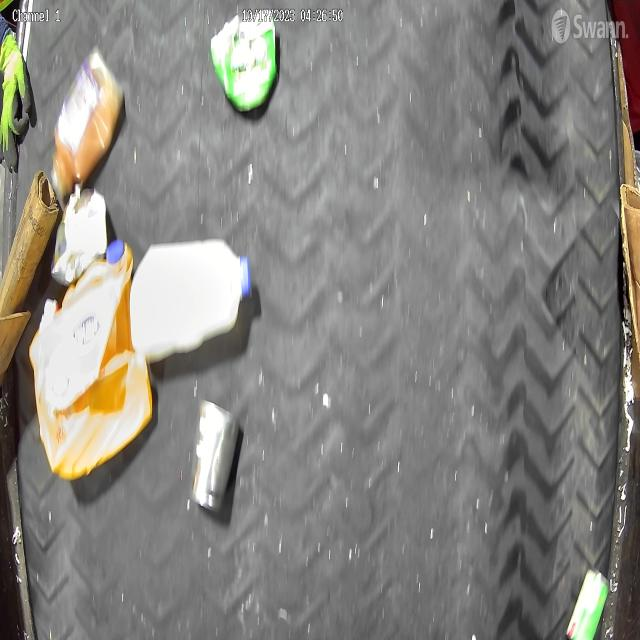can: (194, 399, 238, 514), (566, 564, 608, 638)
milk_jug: (130, 236, 253, 360)
non_white_jug: (33, 244, 154, 483)
